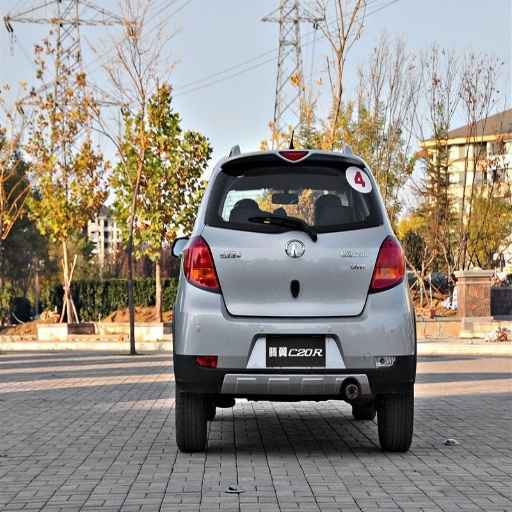back_bumper: (173, 281, 415, 394)
trunk: (208, 228, 385, 316)
